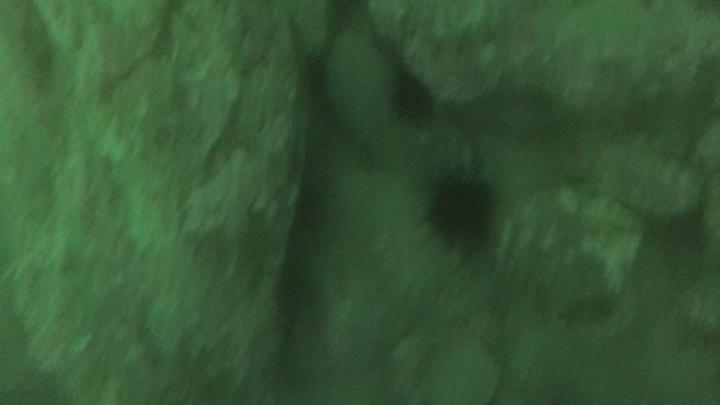echinus: (429, 181, 494, 247), (393, 73, 434, 124)
